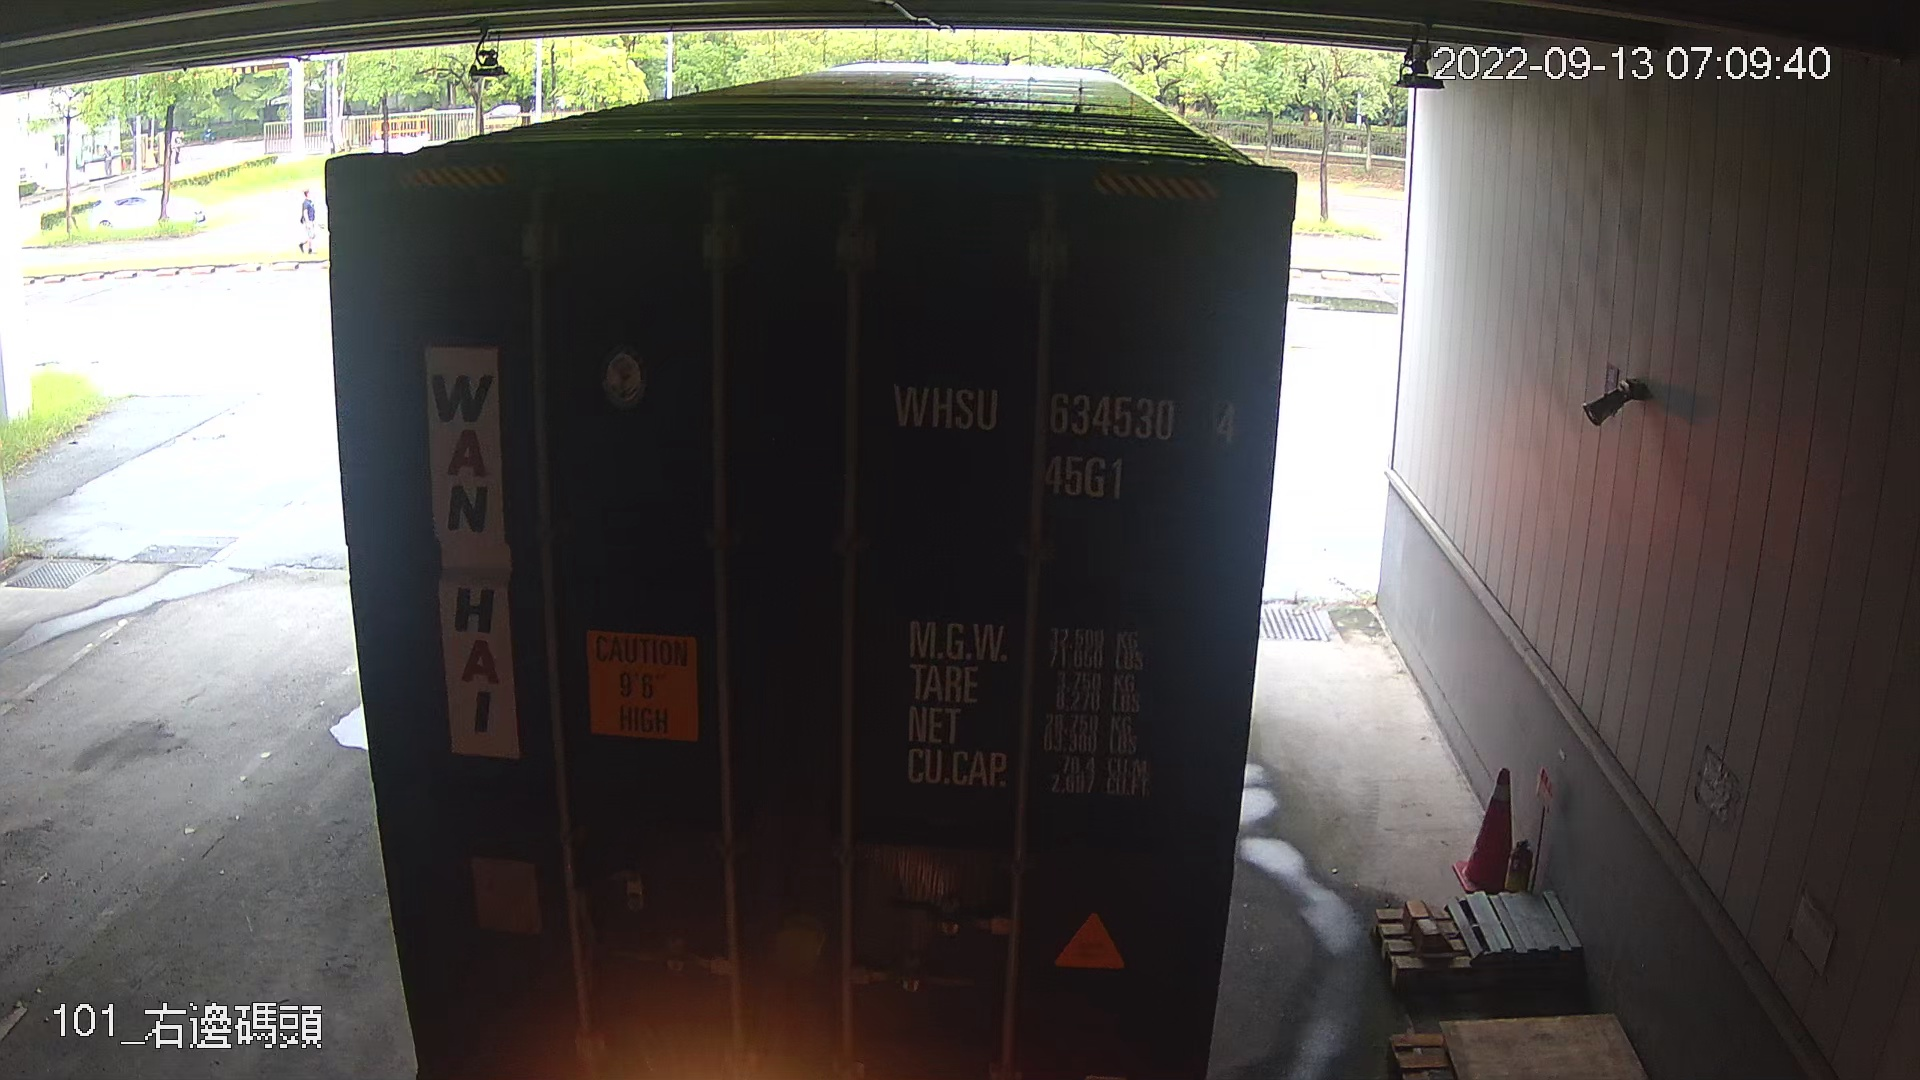container: (880, 372, 1253, 505)
